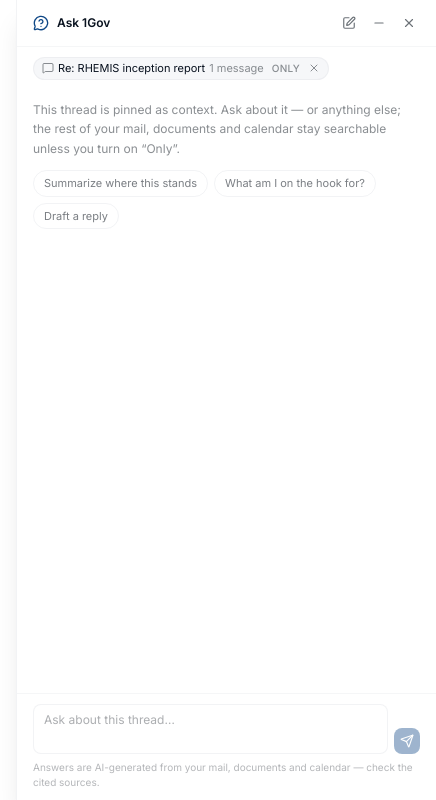
Scenario: AskPanel scope chip › replaces the entry point’s placeholder count with the gathered one
The image size is (436, 800).
Expected: the text "1 message" is shown, [209,60,264,76]
In the text box with placeholder "Ask about this thread…": (210, 729) [33,704,388,754], type "where does this stand?"
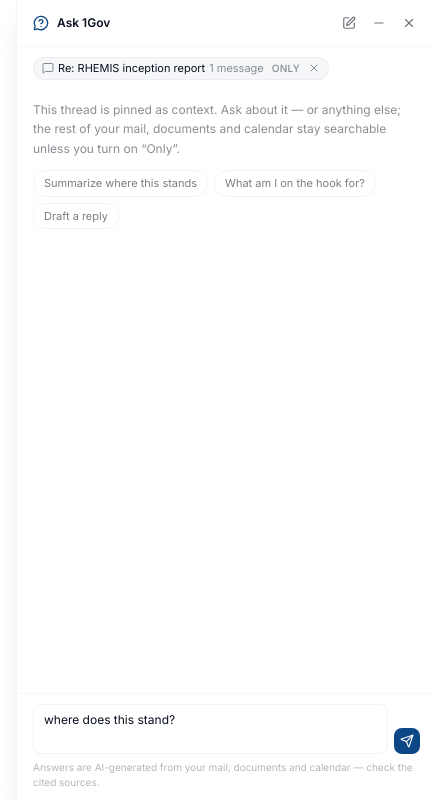
Click the button named "Send": (407, 741) [394,728,420,754]
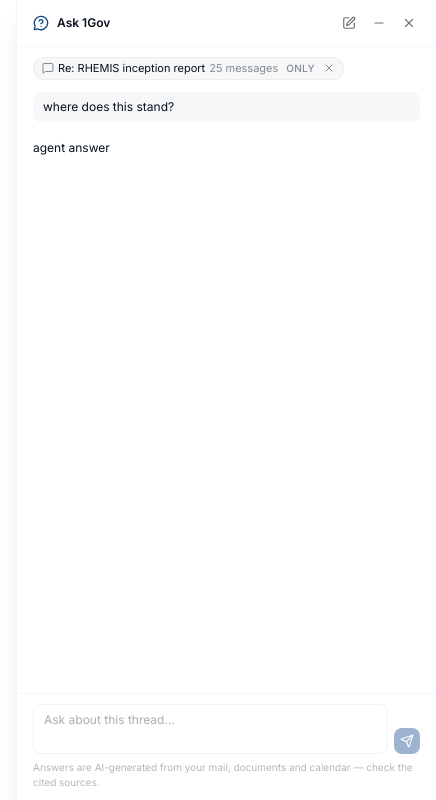
Now the text "25 messages" is shown, box [209,60,278,76]
Now the text "1 message" is gone
